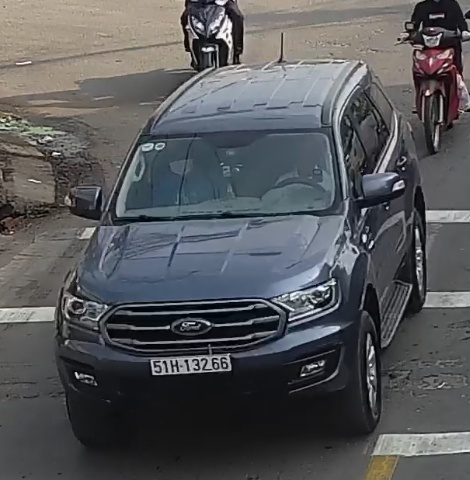vehicle plate: (147, 351, 241, 378)
